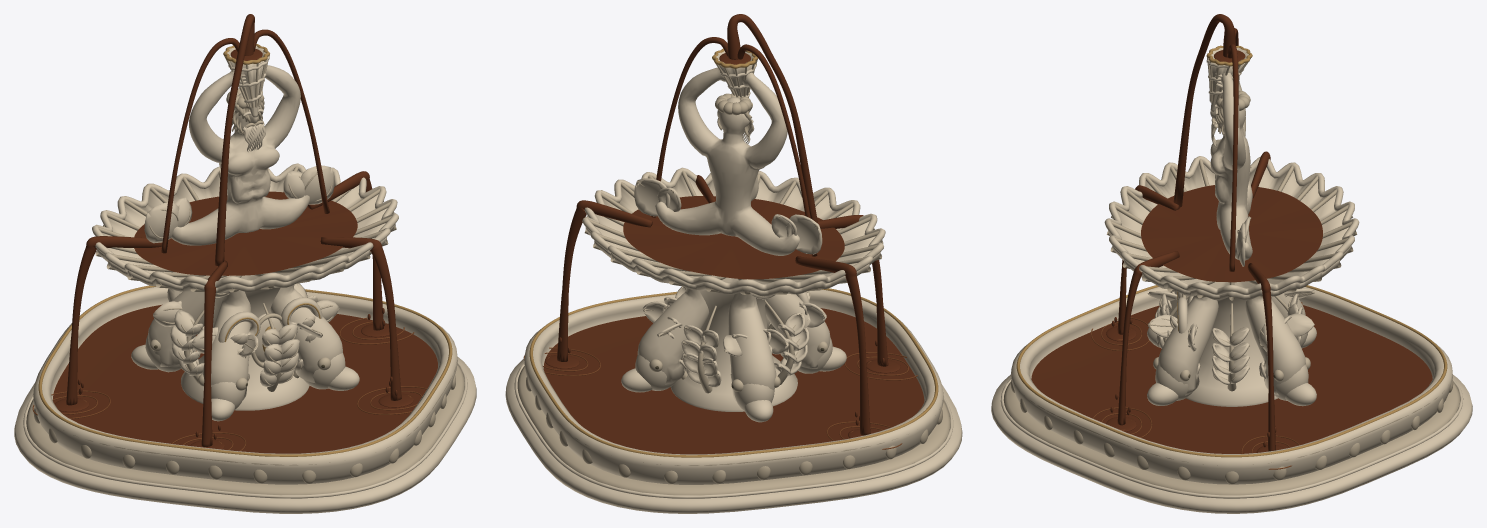
File: triton-chocolate-fountain.glb
3 renders of one model, left to right at view 1: azimuth 30°, elevation 25°; view 2: azimuth 150°, elevation 25°; view 3: azimuth 270°, elevation 25°, orthographic.
Parts seen in each view (by area): view 1: Fountain_Travertino • avorio antico.001, Fountain_Cioccolato fondente • liquido.001, Fountain_Pietra dei rilievi.001, Fountain_Bronzo dorato invecchiato.001, Fountain_Riflessi cioccolata al latte.001; view 2: Fountain_Travertino • avorio antico.001, Fountain_Cioccolato fondente • liquido.001, Fountain_Pietra dei rilievi.001, Fountain_Bronzo dorato invecchiato.001, Fountain_Riflessi cioccolata al latte.001; view 3: Fountain_Travertino • avorio antico.001, Fountain_Cioccolato fondente • liquido.001, Fountain_Pietra dei rilievi.001, Fountain_Bronzo dorato invecchiato.001, Fountain_Riflessi cioccolata al latte.001.
Part boxes in pixels (left/top/right/bottom): Fountain_Travertino • avorio antico.001: left=14, top=46, right=476, bottom=513; Fountain_Cioccolato fondente • liquido.001: left=53, top=14, right=437, bottom=453; Fountain_Pietra dei rilievi.001: left=26, top=55, right=464, bottom=495; Fountain_Bronzo dorato invecchiato.001: left=38, top=44, right=452, bottom=456; Fountain_Riflessi cioccolata al latte.001: left=32, top=317, right=426, bottom=451; Fountain_Travertino • avorio antico.001: left=505, top=51, right=962, bottom=513; Fountain_Cioccolato fondente • liquido.001: left=543, top=14, right=924, bottom=454; Fountain_Pietra dei rilievi.001: left=517, top=59, right=950, bottom=495; Fountain_Bronzo dorato invecchiato.001: left=529, top=48, right=938, bottom=457; Fountain_Riflessi cioccolata al latte.001: left=523, top=347, right=917, bottom=449; Fountain_Travertino • avorio antico.001: left=991, top=47, right=1472, bottom=513; Fountain_Cioccolato fondente • liquido.001: left=1031, top=14, right=1432, bottom=453; Fountain_Pietra dei rilievi.001: left=1003, top=56, right=1460, bottom=495; Fountain_Bronzo dorato invecchiato.001: left=1016, top=45, right=1447, bottom=457; Fountain_Riflessi cioccolata al latte.001: left=1091, top=302, right=1302, bottom=469.
Bounding box in the file's own units: 7.19 × 6.57 × 7.19.
